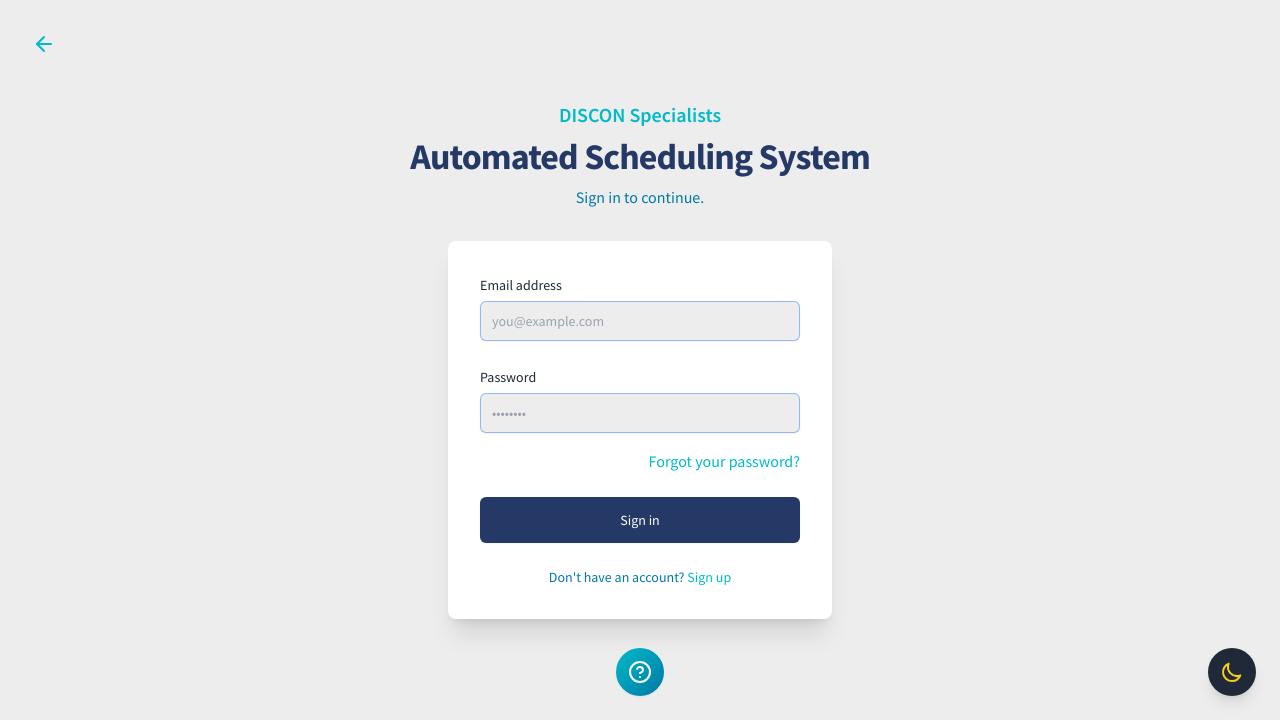
Authentication Flow › Login Page › should show error for invalid credentials
# Use obviously fake credentials that won't exist
In the field labelled "Email address": (640, 321) [480,301,800,341], type "nonexistent@fakeemail.com"
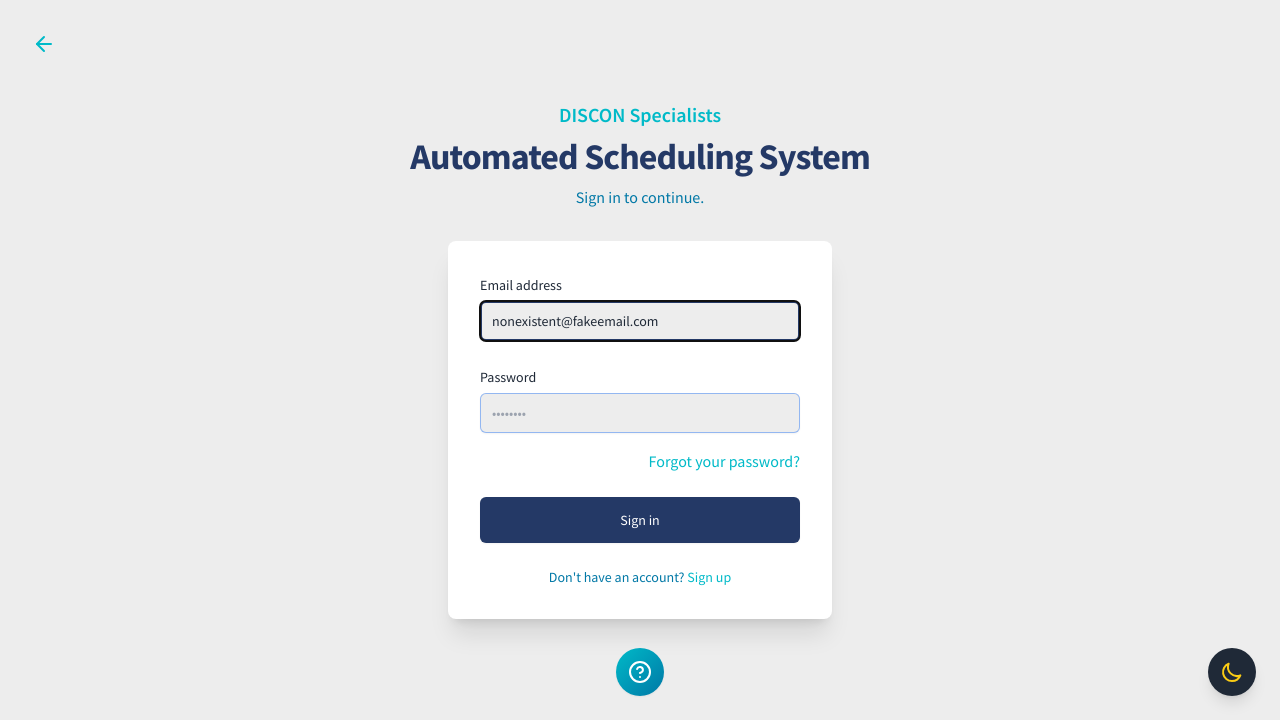
In the password field labelled "Password": (640, 413) [480,393,800,433], type "wrongpassword123"
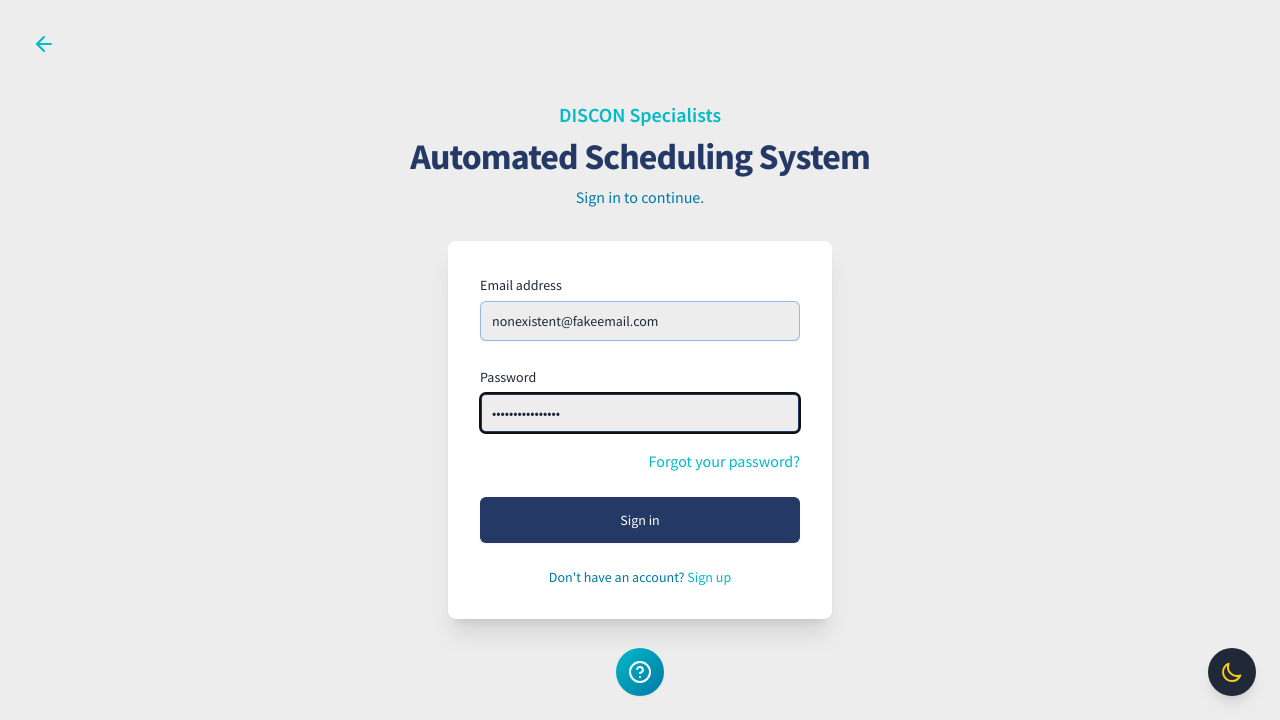
Click the submit button: (640, 520) [480,497,800,543]
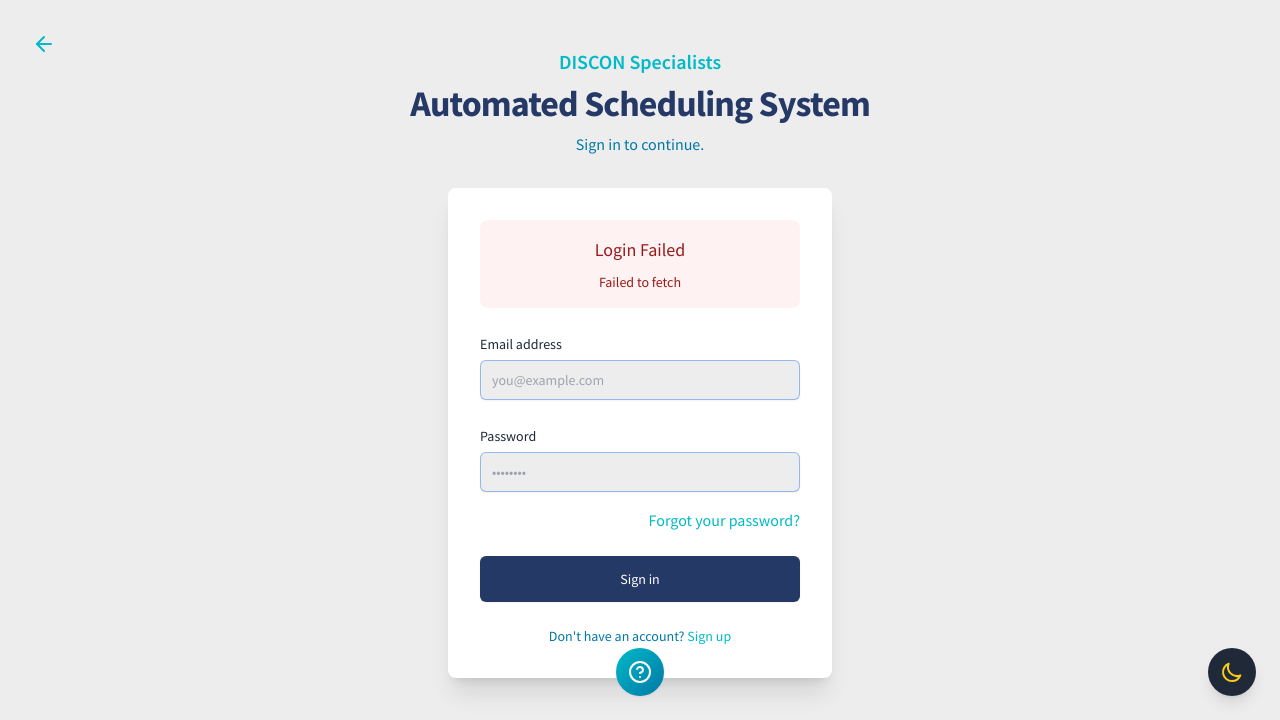
Now the heading "Login Failed" is shown, box [595,238,685,261]
